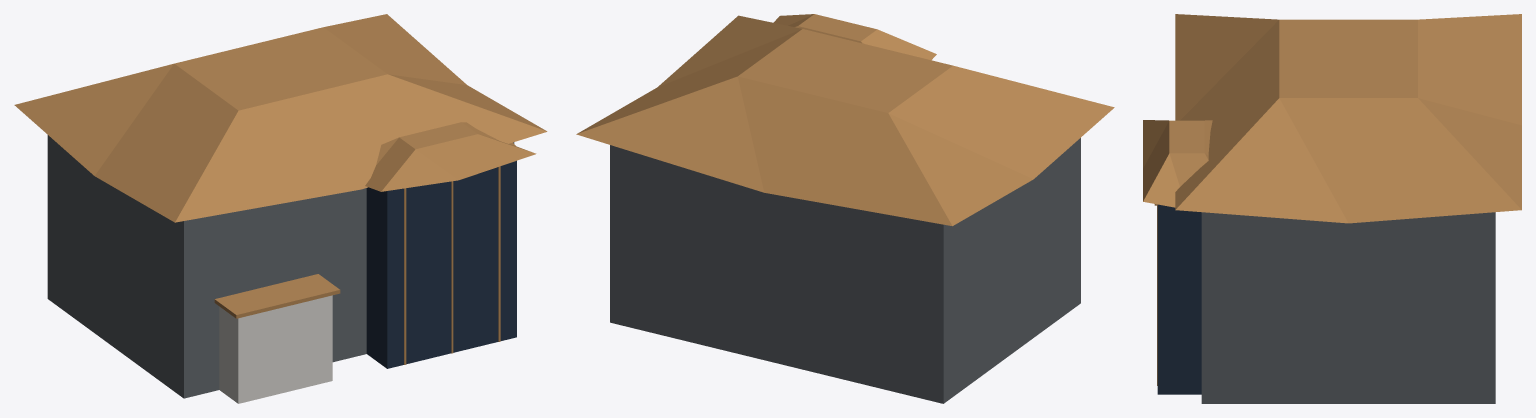
Rendered from building_eastyork_s4_contemporary_estate.glb.
3 renders of one model, left to right at view 1: azimuth 30°, elevation 25°; view 2: azimuth 150°, elevation 25°; view 3: azimuth 270°, elevation 25°, orthographic. The views are drawn at different scales.
Visible parts, largest first — view 1: building_eastyork_s4_contemporary_estate; view 2: building_eastyork_s4_contemporary_estate; view 3: building_eastyork_s4_contemporary_estate.
Part boxes in pixels (x1,y1,x2,y2): building_eastyork_s4_contemporary_estate: (14,14,547,403); building_eastyork_s4_contemporary_estate: (576,14,1114,403); building_eastyork_s4_contemporary_estate: (1143,14,1521,403).
Bounding box in the file's own units: 15.8 × 9.7 × 12.9.
1 material, 1 textured.
